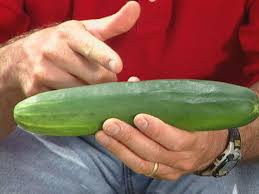cucumber: (13, 79, 259, 137)
